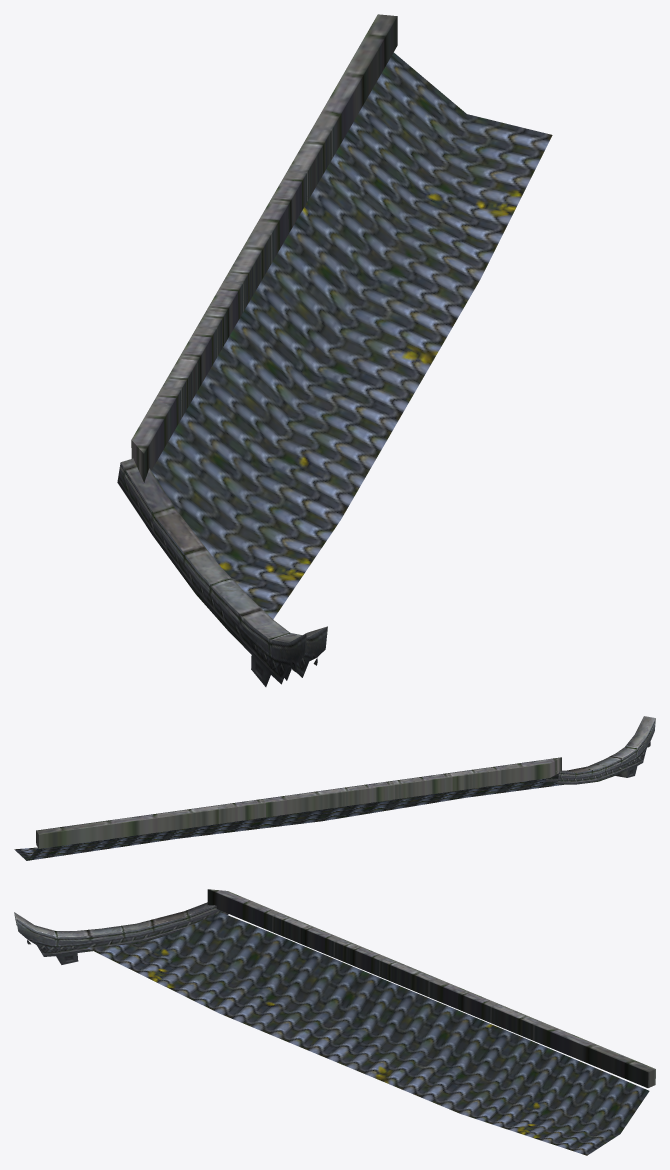
Rendered from S2_Build_XSC059_H5.FBX.
3 views of the same model, one above another, from view 1: azimuth 30°, elevation 25°; view 2: azimuth 150°, elevation 25°; view 3: azimuth 270°, elevation 25° (orthographic). The views are drawn at different scales.
Parts seen in each view (by area): view 1: S2_Build_XSC059_H5; view 2: S2_Build_XSC059_H5; view 3: S2_Build_XSC059_H5.
Boxes of the visible parts, <box> form: S2_Build_XSC059_H5: <box>117,14,552,686</box>; S2_Build_XSC059_H5: <box>14,716,655,860</box>; S2_Build_XSC059_H5: <box>14,889,655,1155</box>.
Size of the model in its own units: 4399 by 729 by 5794.
